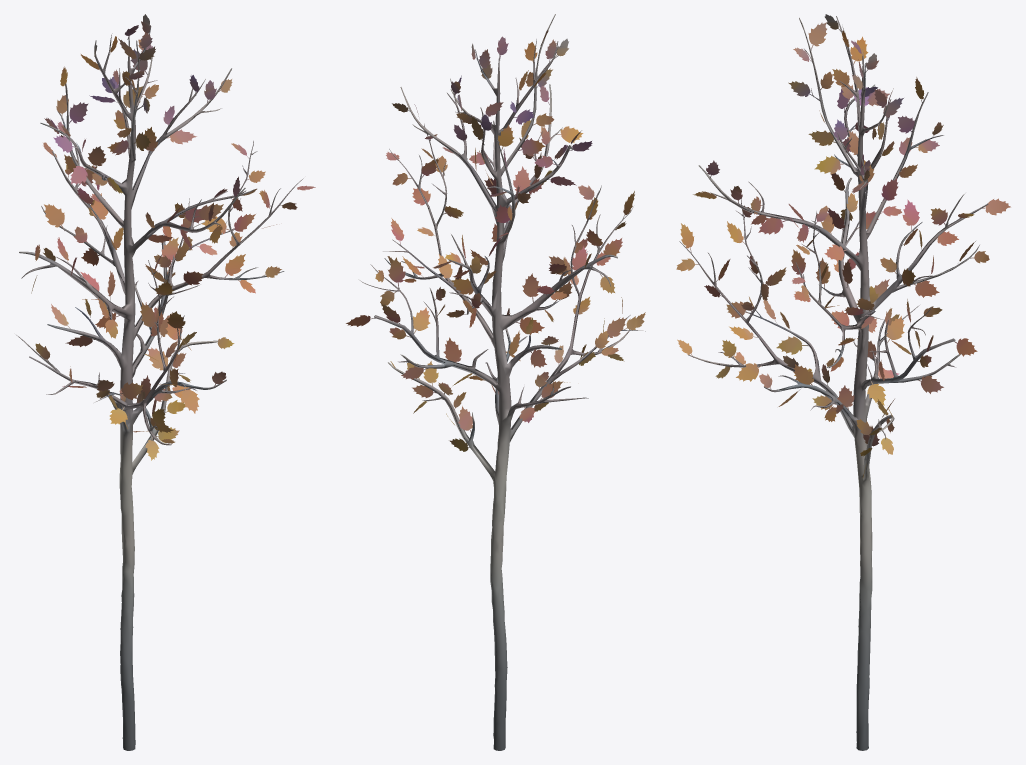
Rendered from S_Aspen_DoubleSided.fbx.
3 renders of one model, left to right at view 1: azimuth 30°, elevation 25°; view 2: azimuth 150°, elevation 25°; view 3: azimuth 270°, elevation 25°, orthographic. The views are drawn at different scales.
Visible parts, largest first — view 1: Aspen_DoubleSided_GEO; view 2: Aspen_DoubleSided_GEO; view 3: Aspen_DoubleSided_GEO.
Part boxes in pixels (x1,y1,x2,y2): Aspen_DoubleSided_GEO: [16, 14, 315, 750]; Aspen_DoubleSided_GEO: [346, 14, 645, 750]; Aspen_DoubleSided_GEO: [676, 14, 1010, 750].
Bounding box in the file's own units: 235 × 618 × 261.
